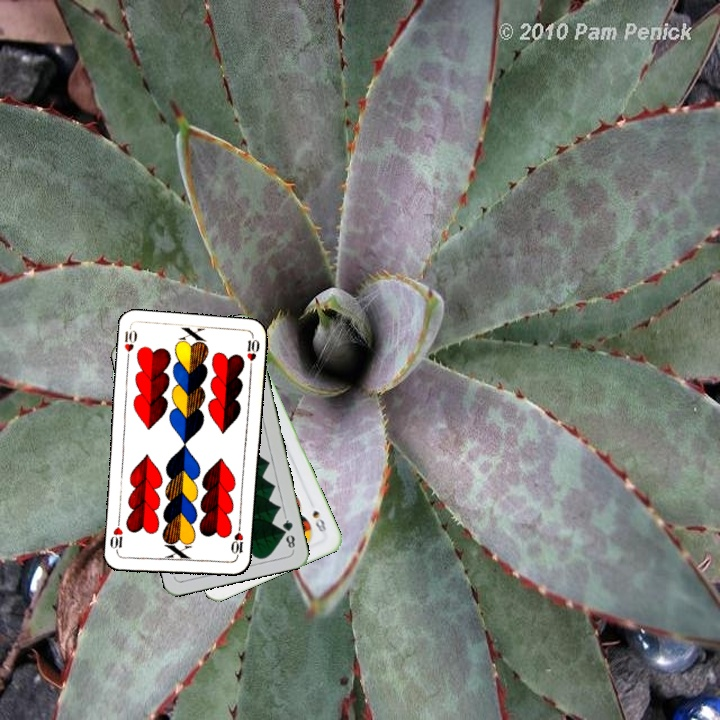G8: (278, 512, 298, 553)
H10: (120, 324, 140, 365), (227, 521, 246, 562)
S8: (308, 506, 330, 539)
